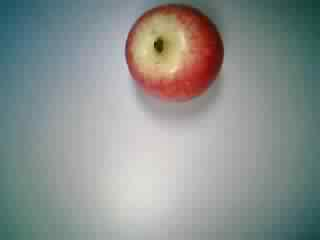apple: (123, 2, 229, 101)
